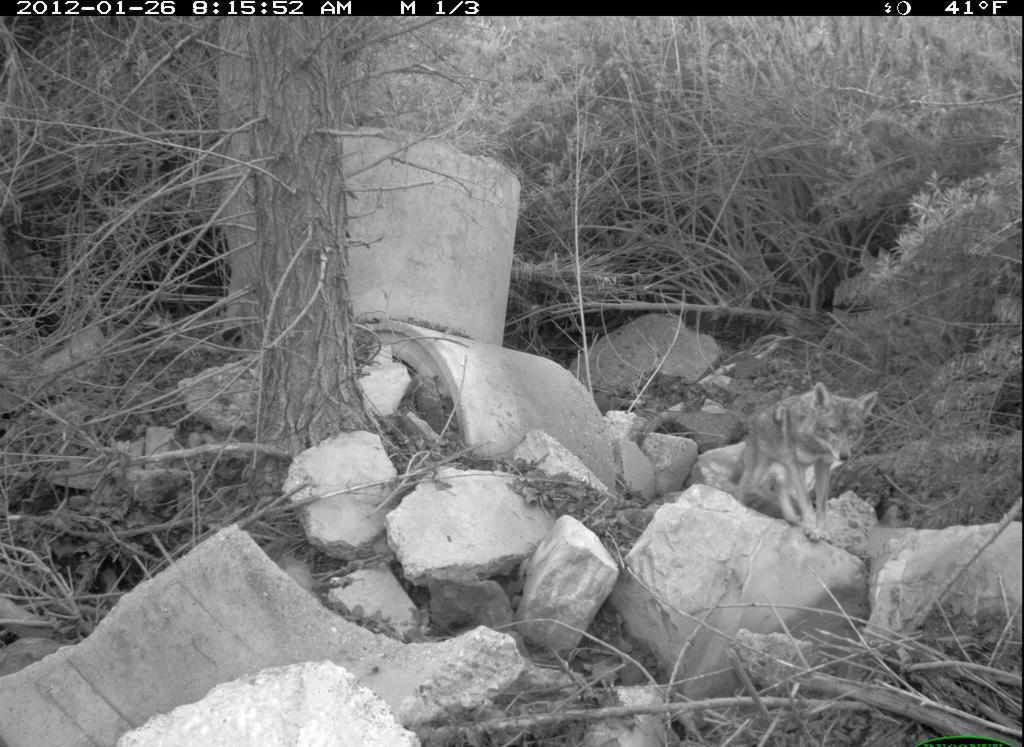coyote: (719, 377, 884, 552)
